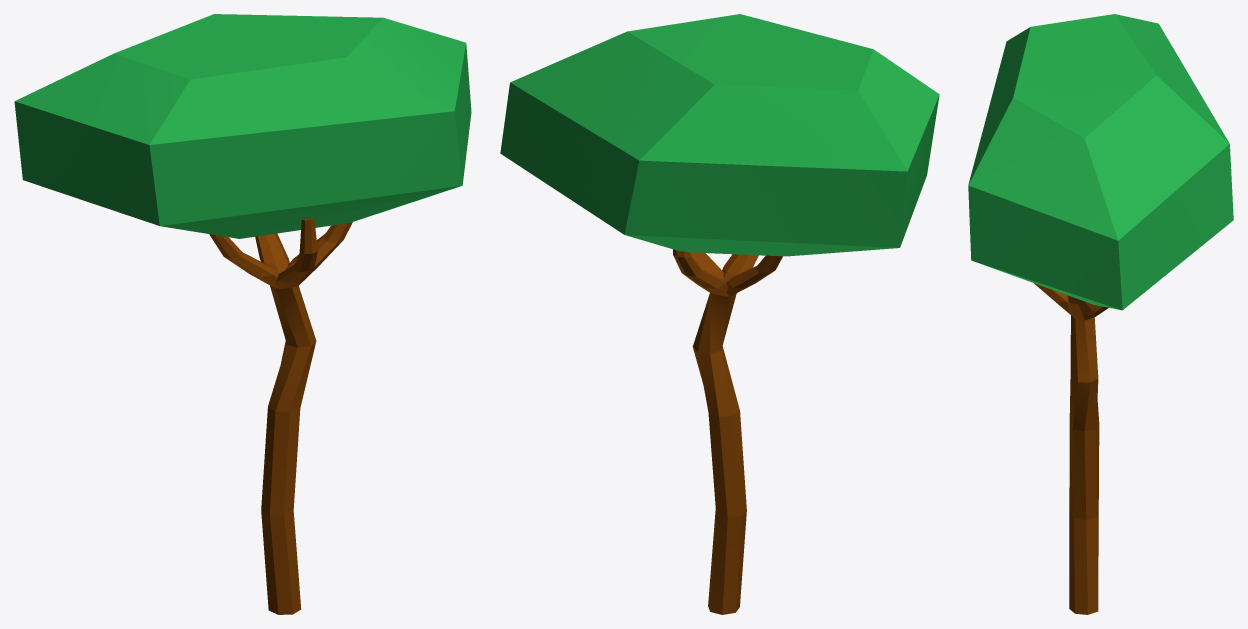
Rendered from SmallTreeWithLeave.obj.
The picture shows the model from 3 angles, left to right: view 1: azimuth 30°, elevation 25°; view 2: azimuth 150°, elevation 25°; view 3: azimuth 270°, elevation 25°; orthographic projection. The views are drawn at different scales.
Visible parts, largest first — view 1: Cylinder.001_Cylinder.000; view 2: Cylinder.001_Cylinder.000; view 3: Cylinder.001_Cylinder.000.
Boxes of the visible parts, left/top/right/bottom form: Cylinder.001_Cylinder.000: left=14, top=14, right=471, bottom=614; Cylinder.001_Cylinder.000: left=500, top=14, right=939, bottom=614; Cylinder.001_Cylinder.000: left=968, top=14, right=1233, bottom=614.
Bounding box in the file's own units: 4.18 × 5.31 × 2.42.
1 material, 1 textured.
